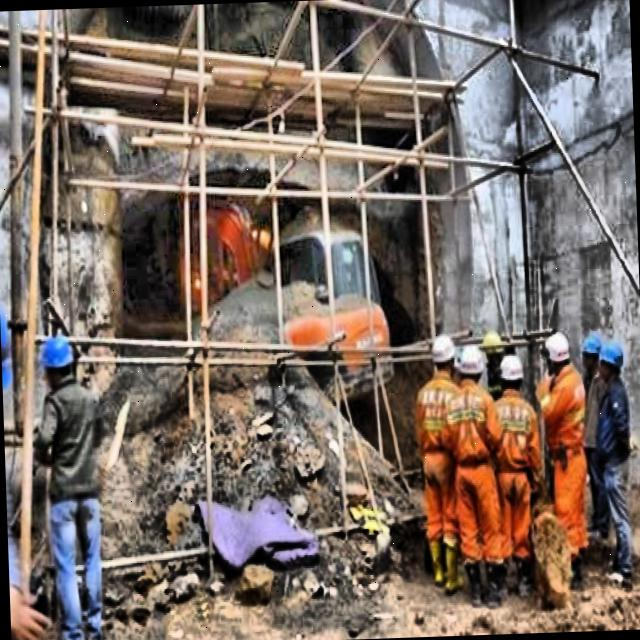helmet: (32, 326, 83, 392), (594, 331, 632, 382), (540, 324, 574, 378), (429, 328, 464, 378), (492, 352, 530, 396), (457, 342, 486, 384), (580, 330, 604, 371)
